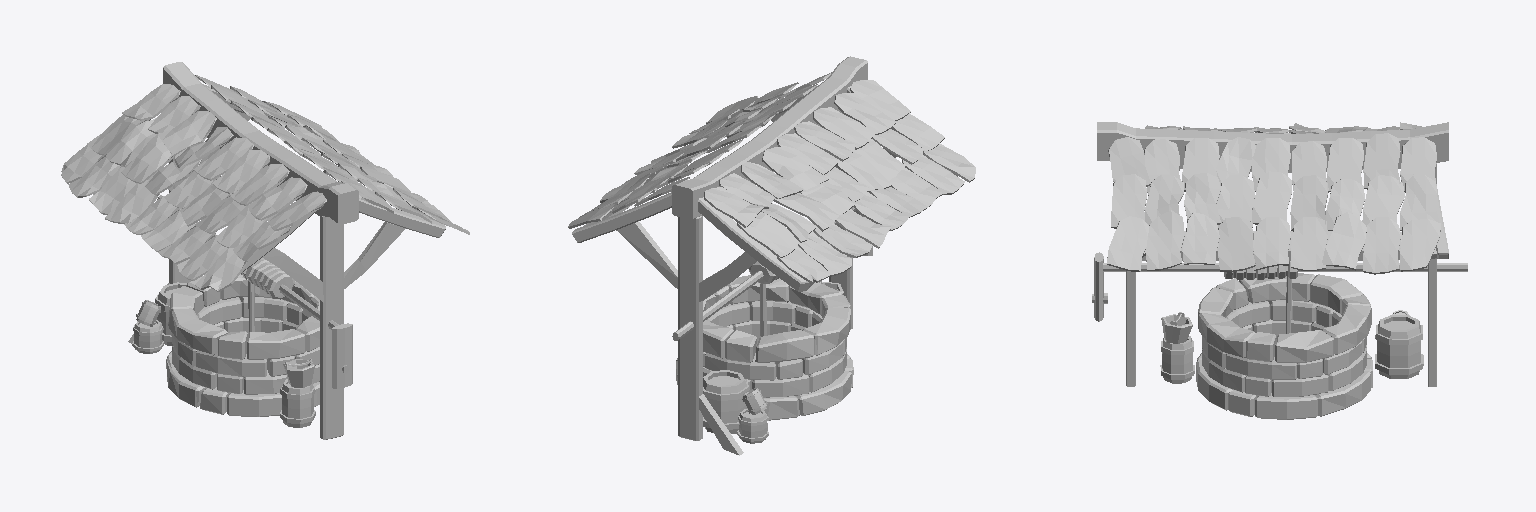
The model's file is waterWell.obj.
3 views of the same model, side by side, from view 1: azimuth 30°, elevation 25°; view 2: azimuth 150°, elevation 25°; view 3: azimuth 270°, elevation 25° (orthographic).
Visible parts, largest first — view 1: waterWell_Cube.026; view 2: waterWell_Cube.026; view 3: waterWell_Cube.026.
Boxes of the visible parts, box(x1,y1,x2,y2) form: waterWell_Cube.026: box(61, 62, 469, 439); waterWell_Cube.026: box(568, 56, 975, 455); waterWell_Cube.026: box(1092, 122, 1467, 419).
Bounding box in the file's own units: 15.35 × 14.52 × 18.94.